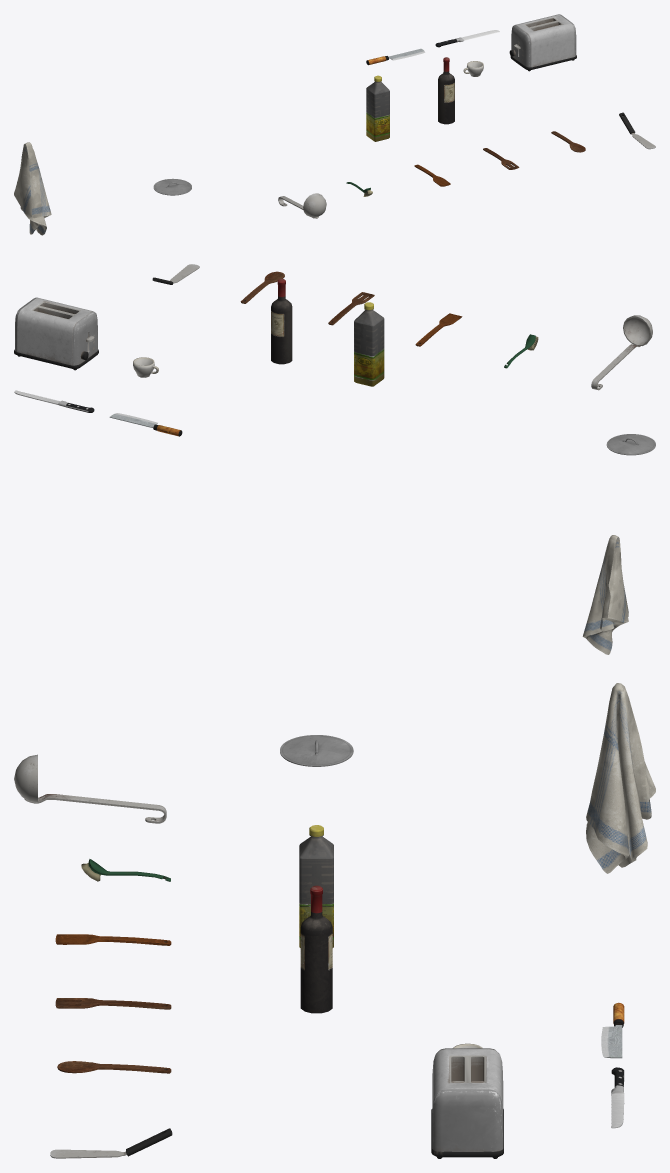
The model's file is Promptstled.fbx.
3 views of the same model, one above another, from view 1: azimuth 30°, elevation 25°; view 2: azimuth 150°, elevation 25°; view 3: azimuth 270°, elevation 25° (orthographic). The views are drawn at different scales.
Parts seen in each view (by area): view 1: Object_36, Object_26, Object_34, Object_44, Object_4, Object_60, Object_10; view 2: Object_36, Object_26, Object_34, Object_44, Object_4, Object_60; view 3: Object_26, Object_36, Object_44, Object_34, Object_60, Object_4, Object_32, Object_10, Object_22, Object_18, Object_16, Object_8.
Part boxes in pixels (<box>): Object_36: <box>509,14,576,71</box>; Object_26: <box>14,142,51,235</box>; Object_34: <box>366,75,389,141</box>; Object_44: <box>438,57,454,124</box>; Object_4: <box>278,193,326,218</box>; Object_60: <box>153,178,191,195</box>; Object_10: <box>366,48,425,65</box>; Object_36: <box>14,297,98,370</box>; Object_26: <box>582,535,628,654</box>; Object_34: <box>354,302,384,386</box>; Object_44: <box>271,278,292,364</box>; Object_4: <box>591,315,652,390</box>; Object_60: <box>606,434,655,455</box>; Object_26: <box>586,683,655,873</box>; Object_36: <box>431,1048,503,1158</box>; Object_44: <box>300,885,332,1013</box>; Object_34: <box>299,825,333,947</box>; Object_60: <box>280,735,353,766</box>; Object_4: <box>14,754,166,823</box>; Object_32: <box>50,1128,172,1158</box>; Object_10: <box>601,1002,624,1058</box>; Object_22: <box>55,998,171,1009</box>; Object_18: <box>55,934,171,945</box>; Object_16: <box>57,1061,171,1073</box>; Object_8: <box>611,1067,624,1128</box>.
Bounding box in the file's own units: 781 × 225 × 447.
Materials: 6 (6 with a texture image).
